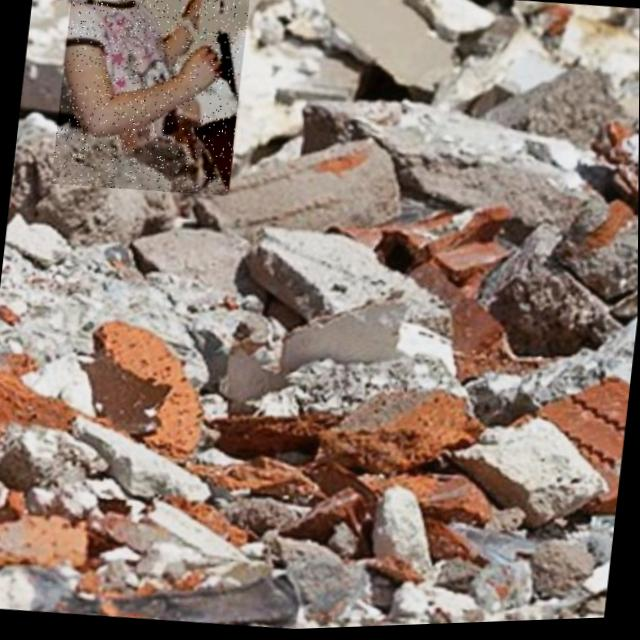Person in Rubble: (51, 0, 250, 201)
